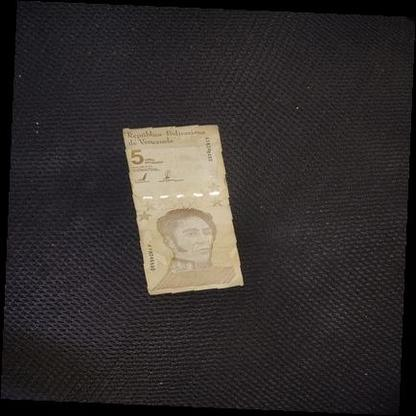five-front-vef: (122, 124, 244, 296)
